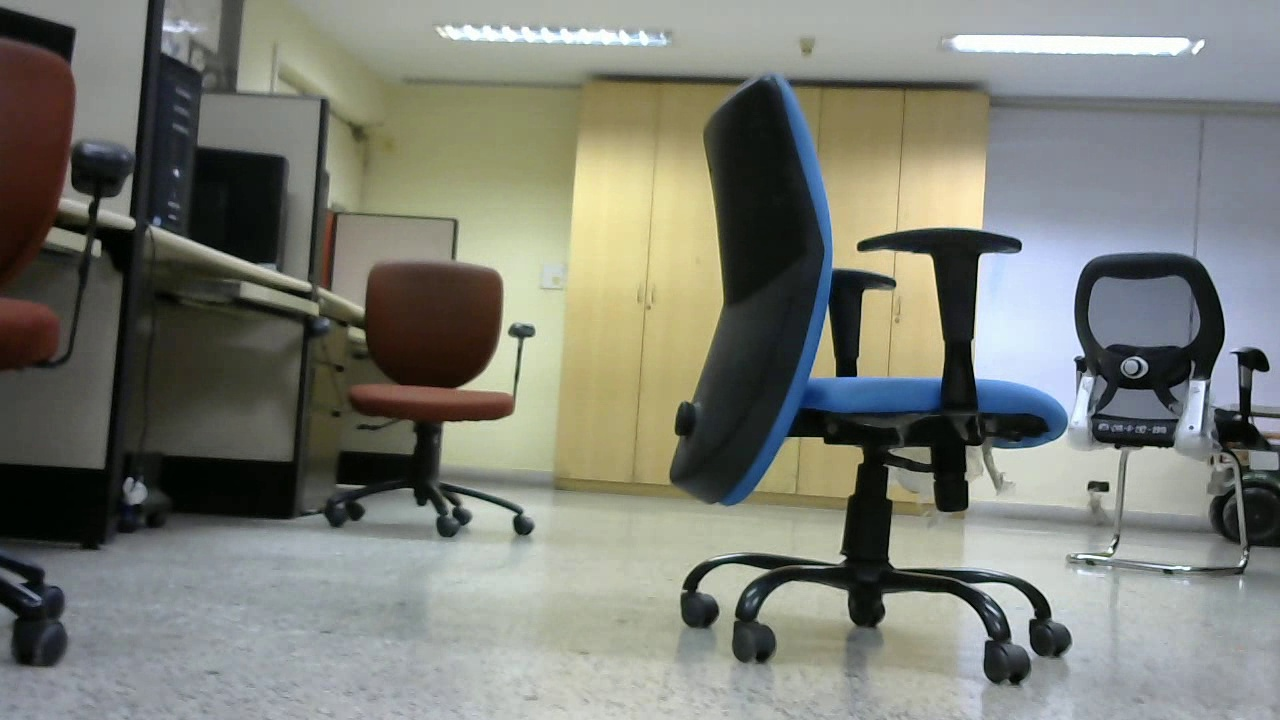chair: (666, 73, 1076, 678), (322, 255, 537, 544), (1070, 255, 1247, 576)
